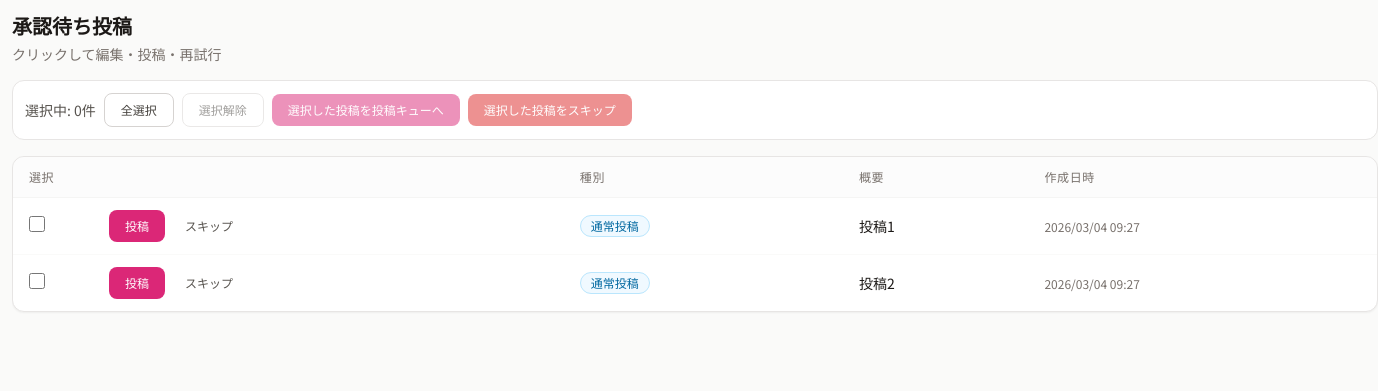
PostsListPage › continues and reports summary when partially failed
Click the checkbox named "投稿を選択 post-1" at (37, 224), box [29,216,45,232]
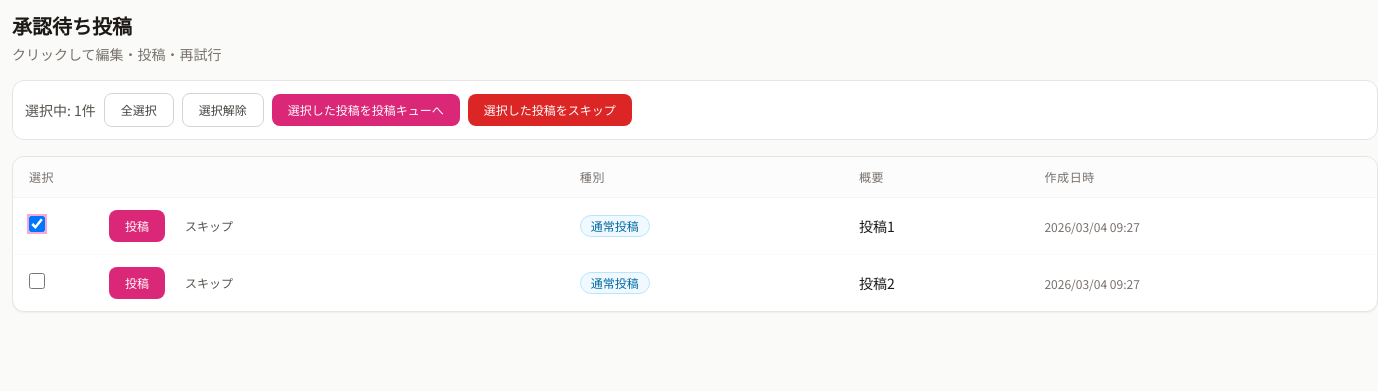
Click the checkbox named "投稿を選択 post-2" at (37, 281), box [29,273,45,289]
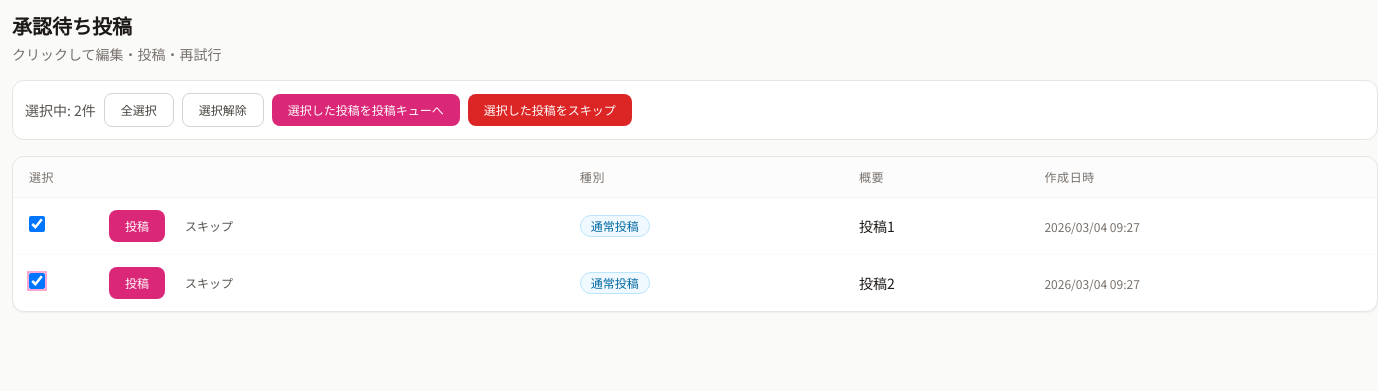
Click the button "選択した投稿をスキップ" at (550, 110), box [468,94,632,126]
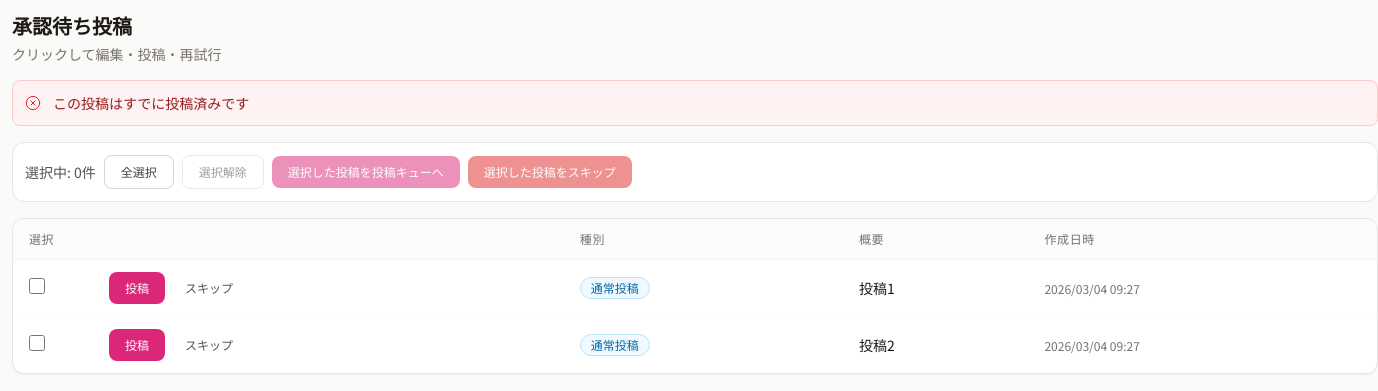
Now the text "この投稿はすでに投稿済みです" is shown, box [53,93,249,113]
